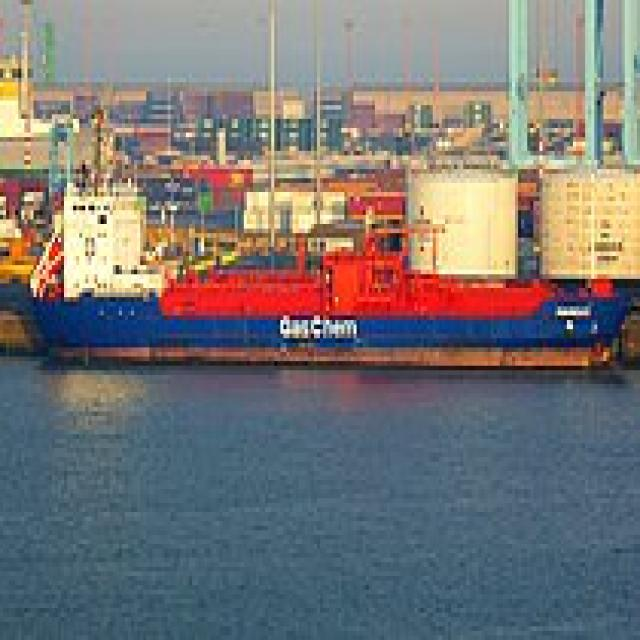Tanker: (21, 169, 625, 361)
